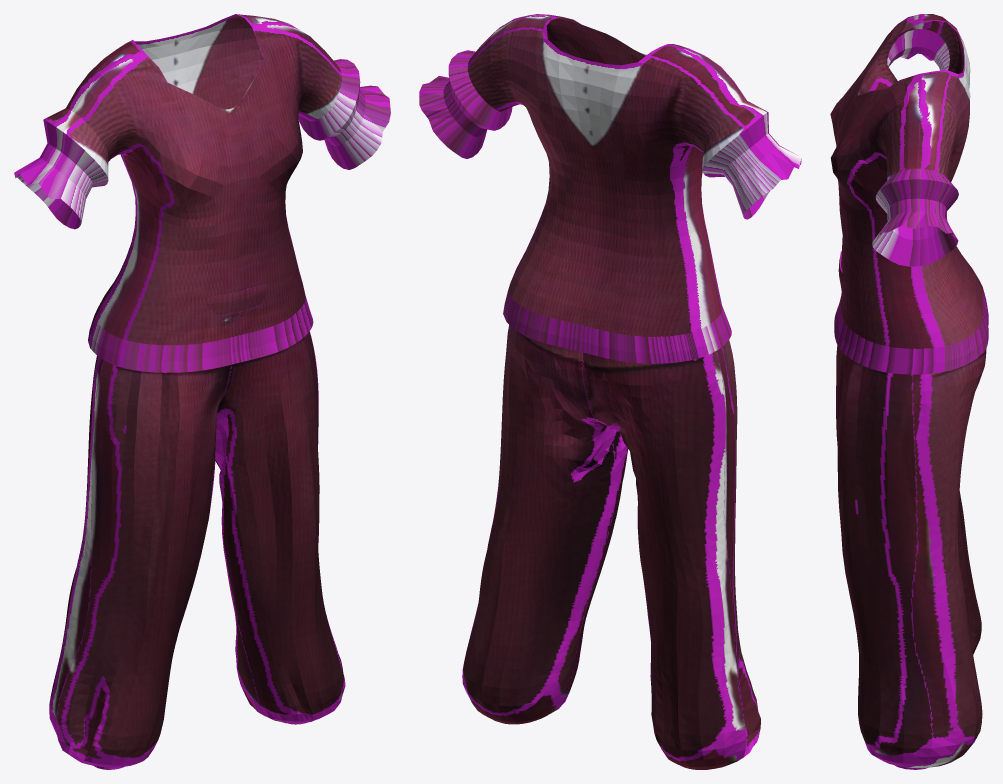
3 renders of one model, left to right at view 1: azimuth 30°, elevation 25°; view 2: azimuth 150°, elevation 25°; view 3: azimuth 270°, elevation 25°, orthographic. The views are drawn at different scales.
Bounding box in the file's own units: 0.56 × 1.04 × 0.2202.
1 material, 1 textured.
